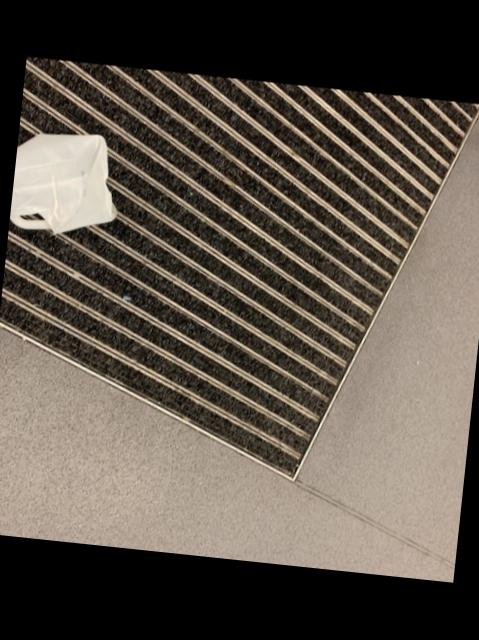plastic: (9, 135, 116, 235)
